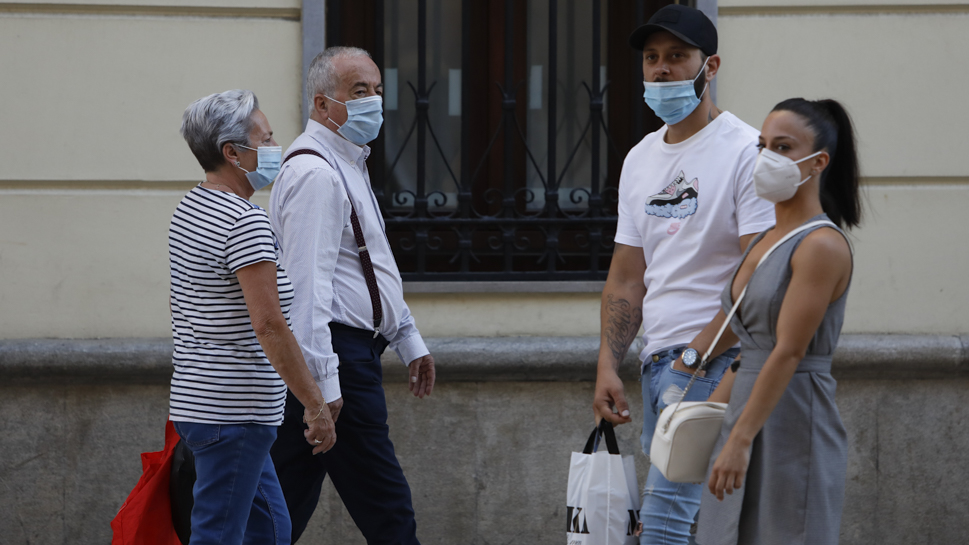with_mask: (185, 98, 288, 205), (749, 105, 843, 215), (633, 24, 723, 129), (302, 52, 394, 150)
